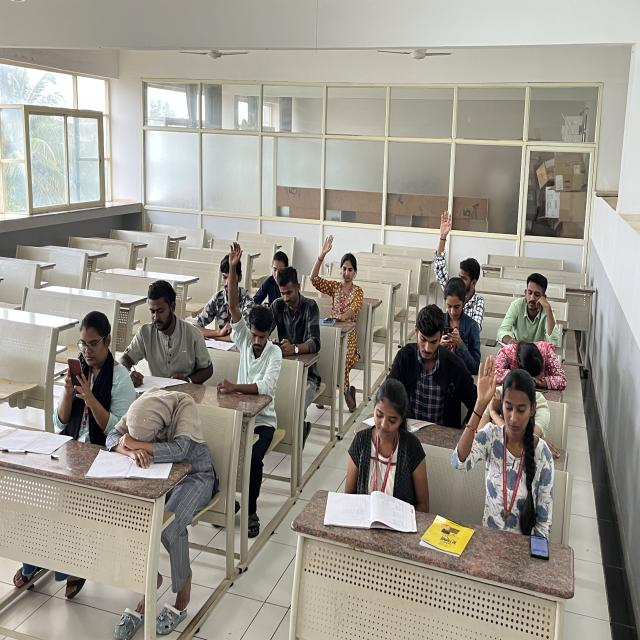Hand Rising: (460, 352, 563, 511), (218, 239, 282, 408), (429, 210, 489, 319), (312, 230, 363, 321)
Reading: (323, 381, 433, 526)
Sleeping: (98, 379, 213, 473), (498, 332, 573, 391)
Using Phone: (51, 303, 132, 438), (268, 265, 316, 356), (436, 277, 484, 367), (249, 246, 299, 312)
Writing: (115, 274, 218, 395), (498, 262, 566, 349)
